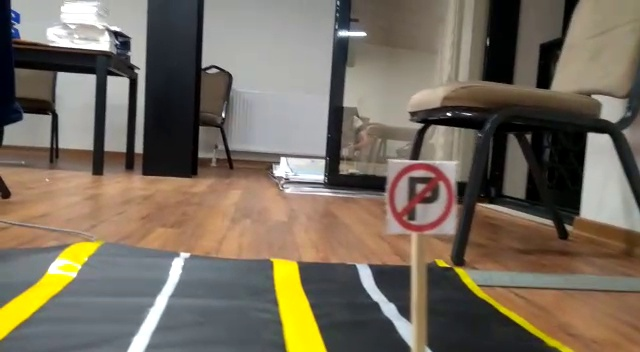park_yapilmaz: (385, 159, 456, 231)
